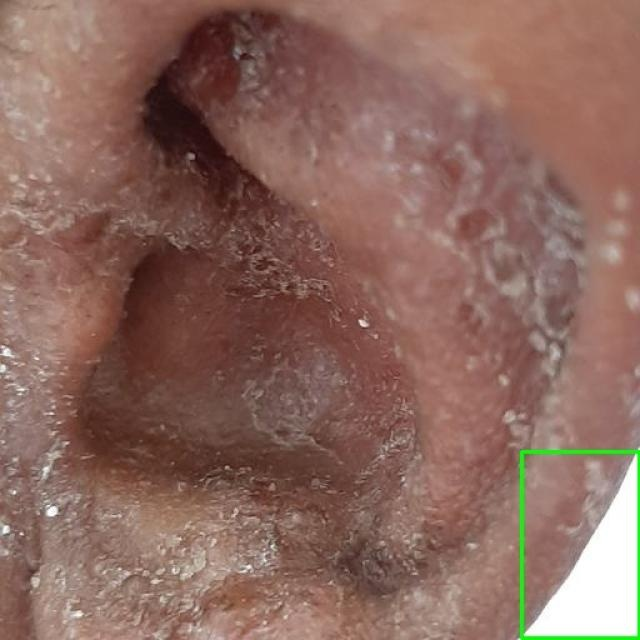Eczema: (521, 452, 639, 639)
